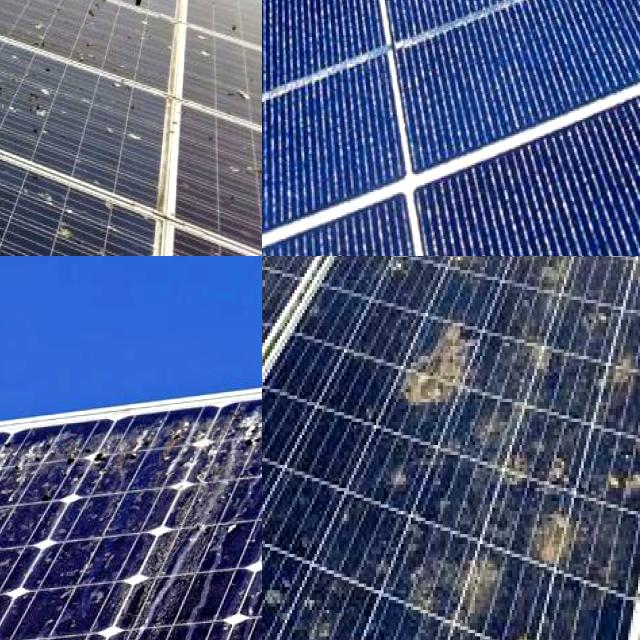bird: (398, 305, 491, 398), (59, 438, 152, 490), (446, 550, 512, 616), (197, 422, 262, 479), (524, 507, 580, 571), (522, 438, 579, 500), (102, 89, 148, 162), (600, 323, 638, 410), (21, 71, 60, 151), (604, 420, 640, 501), (0, 450, 47, 508), (380, 446, 422, 500), (524, 260, 570, 308), (262, 576, 303, 620), (0, 26, 34, 76), (212, 80, 254, 116), (456, 256, 488, 302), (226, 148, 262, 187), (79, 0, 121, 31), (46, 216, 84, 249), (262, 457, 299, 489), (0, 210, 28, 252), (0, 102, 26, 137), (0, 131, 27, 159), (0, 149, 26, 176), (126, 0, 160, 20), (135, 0, 172, 15), (501, 625, 538, 640), (225, 19, 262, 32), (0, 232, 13, 256), (224, 0, 236, 17)
crack: (262, 0, 640, 256)
